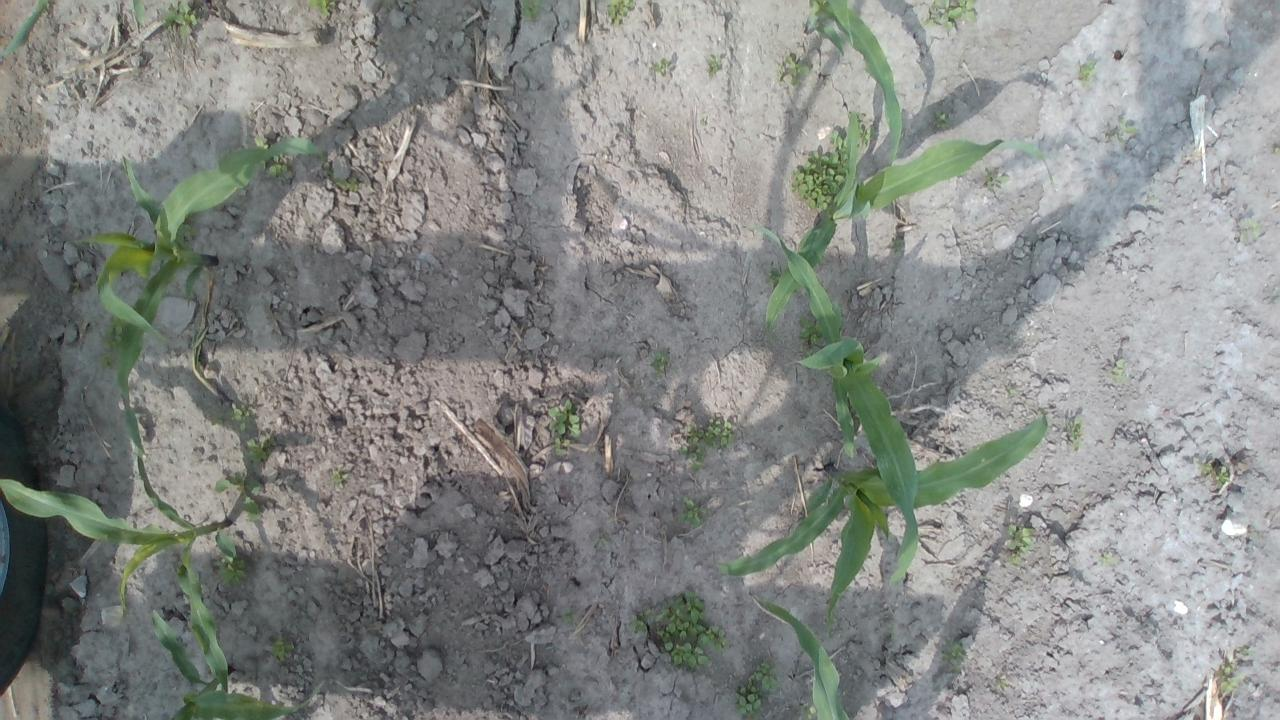Maize: (70, 136, 326, 456), (708, 414, 1060, 646), (761, 113, 1055, 353), (0, 450, 260, 694), (755, 226, 920, 598), (147, 608, 328, 720), (802, 0, 905, 161), (752, 597, 869, 720), (0, 0, 158, 62)
Weeds: (656, 588, 726, 670), (792, 131, 852, 210), (679, 418, 736, 472), (216, 472, 264, 522), (737, 662, 782, 714), (924, 0, 977, 34), (547, 397, 582, 438), (162, 0, 198, 37), (214, 556, 250, 590), (1007, 523, 1036, 563), (797, 316, 828, 348), (777, 56, 811, 84), (630, 607, 656, 639), (852, 115, 877, 148), (1239, 213, 1262, 246), (1063, 413, 1084, 448), (680, 498, 706, 526), (266, 640, 296, 664), (608, 0, 636, 25), (942, 638, 968, 664), (1202, 463, 1232, 485), (647, 350, 671, 376), (1220, 666, 1240, 697), (245, 436, 268, 462), (984, 170, 1011, 192), (1111, 121, 1138, 142), (1078, 57, 1102, 80), (230, 408, 252, 432), (553, 436, 573, 458), (309, 0, 332, 18), (522, 0, 543, 19), (652, 59, 676, 75), (269, 159, 289, 177), (704, 55, 721, 76), (765, 270, 782, 290), (331, 471, 348, 490), (340, 177, 359, 193), (1114, 358, 1127, 380), (934, 112, 948, 127)
